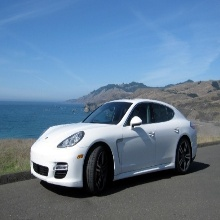no damage: (29, 99, 199, 195)
